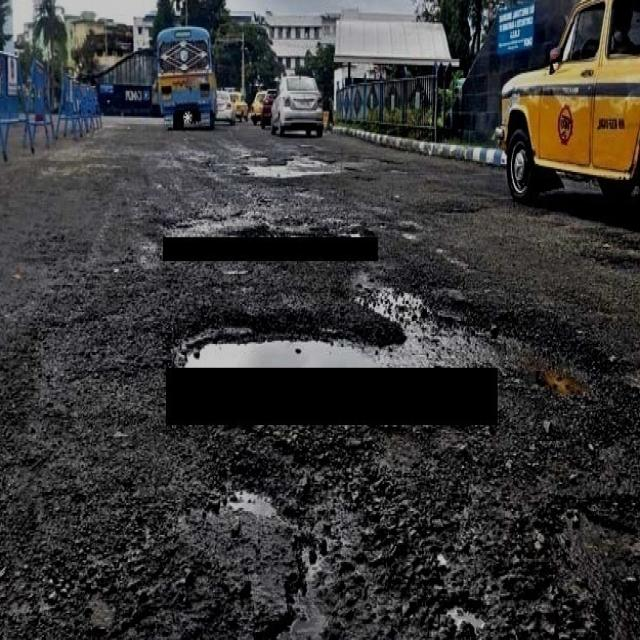road-pothole: (165, 276, 638, 531)
